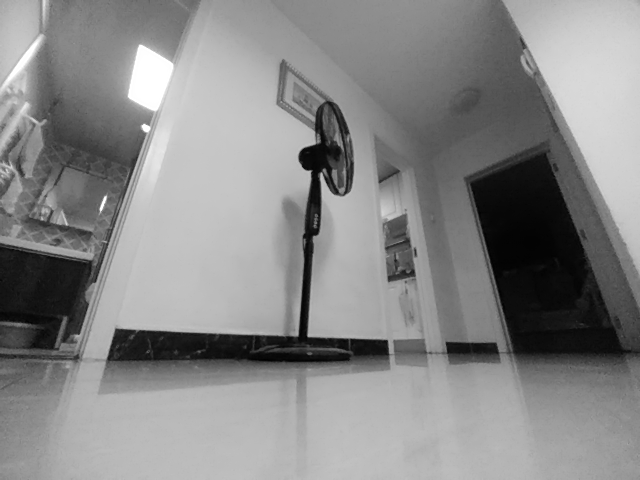bar stool: (247, 333, 356, 366)
